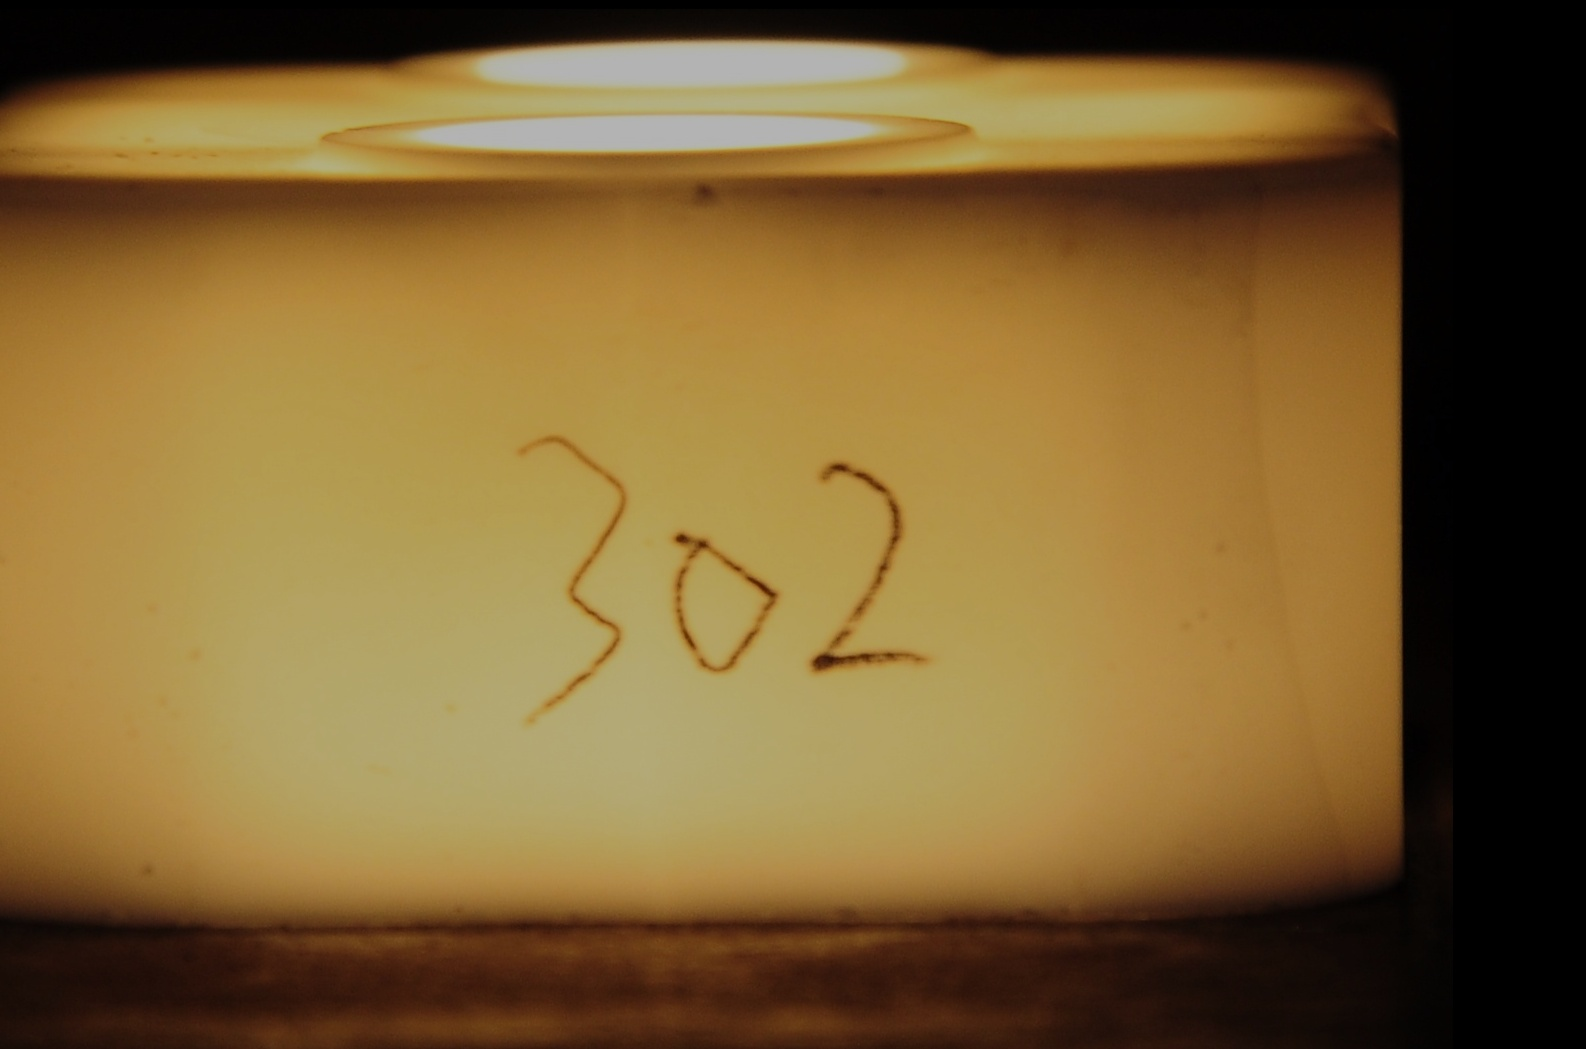flaw: (1211, 155, 1371, 894)
hiatus: (684, 169, 733, 210)
